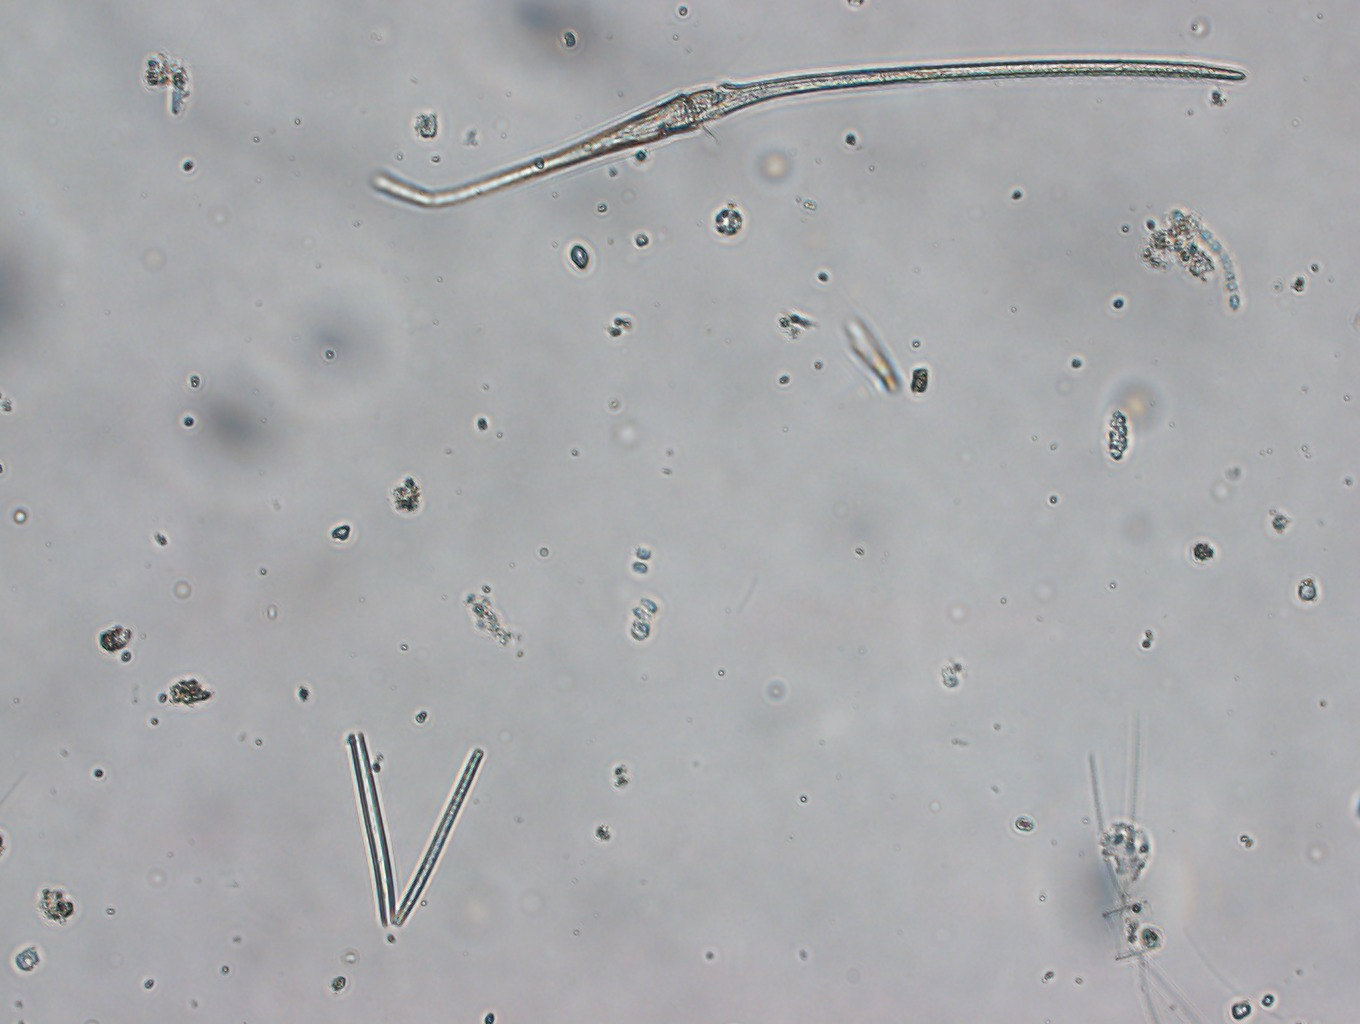ceratium fusus: (369, 43, 1263, 217)
chaetoceros: (1066, 727, 1209, 1024)
thalassionema frauenfeldii: (335, 735, 490, 925)
